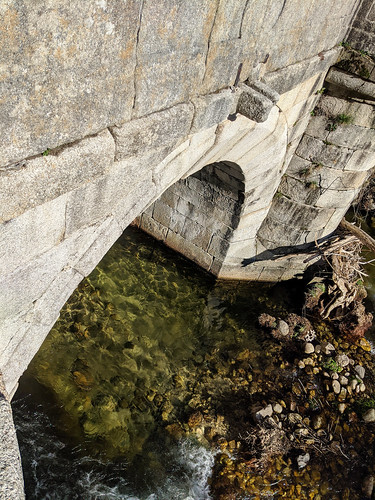bridge: (14, 1, 371, 458)
river: (26, 251, 375, 489)
